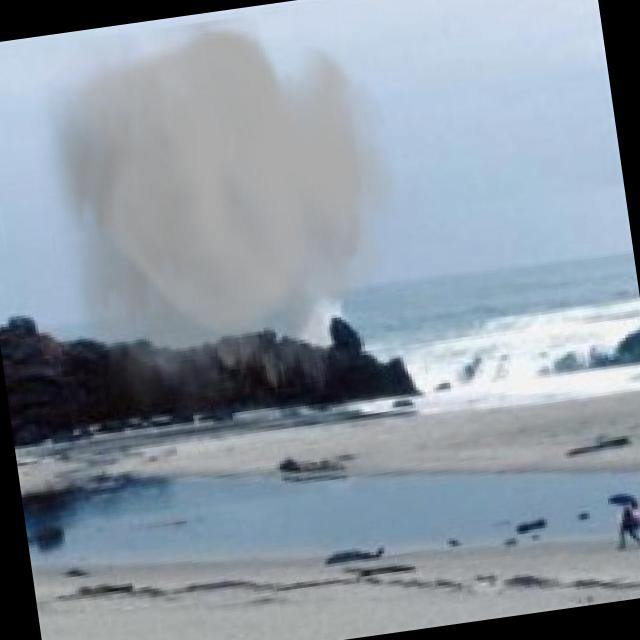Smoke: (19, 0, 432, 467)
